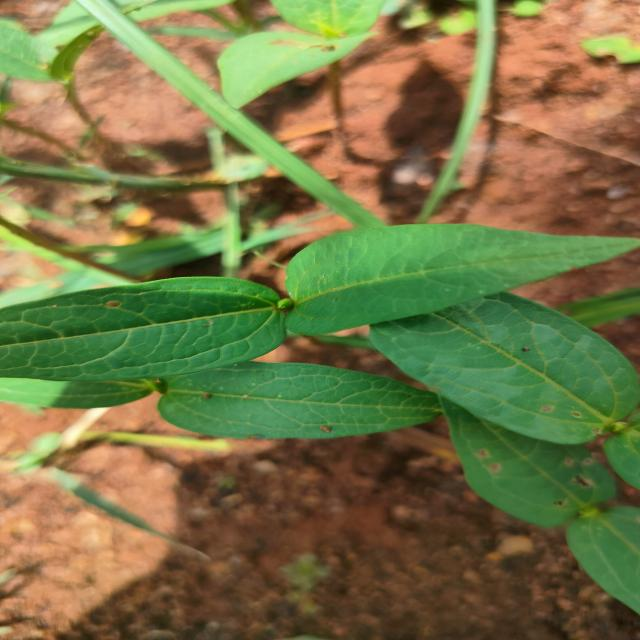Black gram_healthy: (372, 285, 638, 440), (281, 225, 635, 332), (3, 277, 284, 381), (156, 357, 440, 437)
